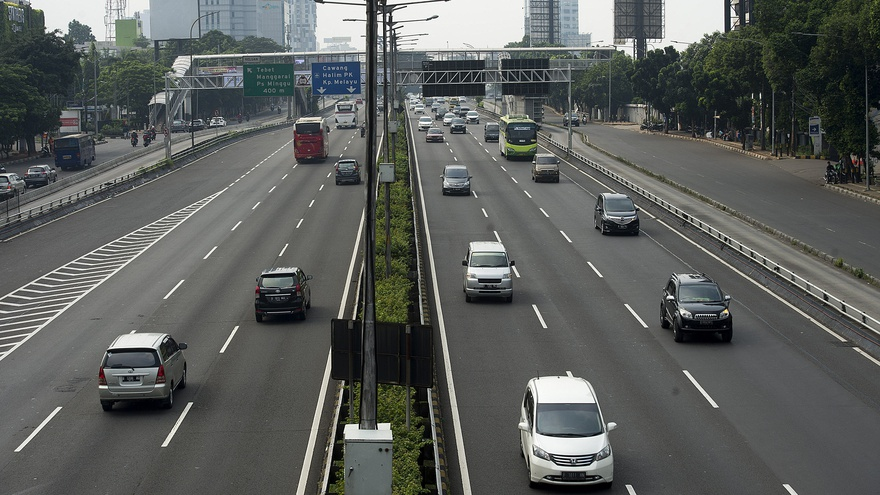car: (518, 367, 616, 487), (98, 333, 188, 415), (662, 272, 734, 346), (257, 267, 312, 325), (465, 241, 514, 304), (595, 192, 641, 239), (500, 116, 537, 161), (294, 117, 329, 163), (54, 133, 95, 171), (442, 164, 472, 196), (532, 152, 560, 183), (25, 165, 57, 188), (335, 159, 362, 186), (1, 171, 26, 199), (334, 101, 358, 130), (485, 123, 500, 142), (451, 117, 467, 134), (426, 128, 444, 143), (418, 116, 434, 132), (172, 119, 188, 134), (564, 113, 579, 129), (189, 119, 206, 132), (210, 116, 226, 129), (467, 110, 480, 124), (443, 112, 456, 126), (437, 107, 449, 120), (448, 97, 460, 110), (460, 106, 471, 118), (415, 104, 425, 115)
motorbike: (131, 130, 139, 148), (143, 131, 150, 148), (151, 125, 158, 140)
